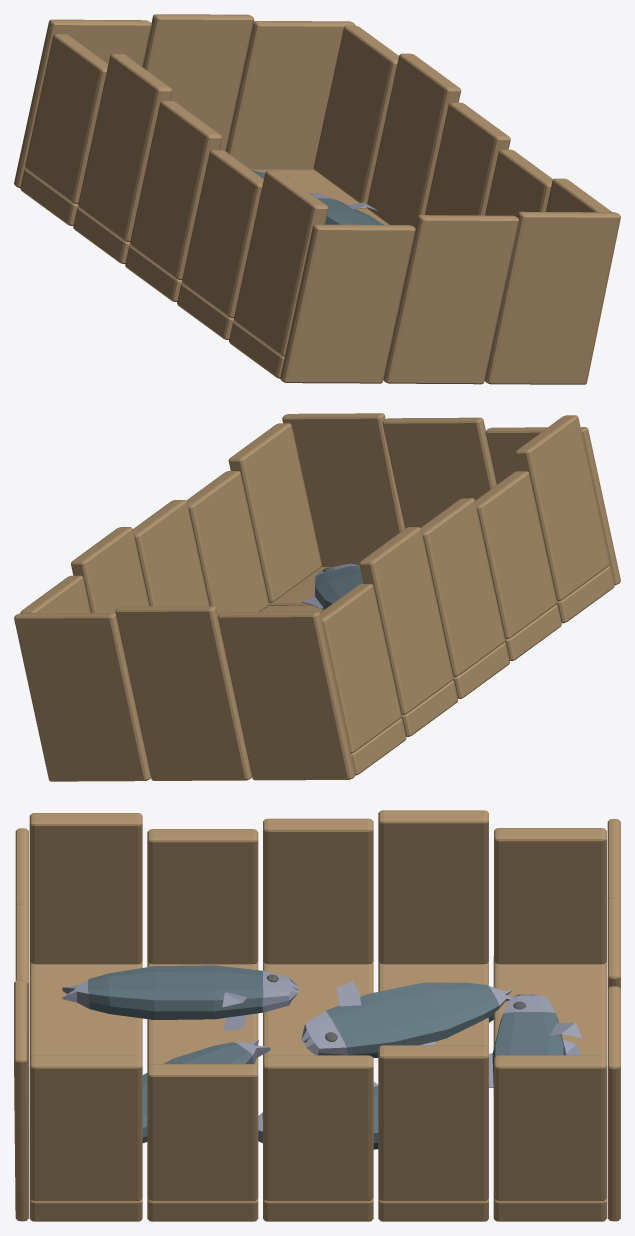
Rendered from BlueFishCase.fbx.
3 renders of one model, top to bottom at view 1: azimuth 30°, elevation 25°; view 2: azimuth 150°, elevation 25°; view 3: azimuth 270°, elevation 25°, orthographic. The views are drawn at different scales.
Parts seen in each view (by area): view 1: Plane.033, Sphere.004; view 2: Plane.033, Sphere.001; view 3: Plane.033, Sphere.003, Sphere.002, Sphere.005, Sphere.001.
Part boxes in pixels (bbox=[...]): Plane.033: bbox=[14, 14, 620, 384]; Sphere.004: bbox=[309, 192, 383, 224]; Plane.033: bbox=[14, 413, 620, 781]; Sphere.001: bbox=[302, 563, 363, 610]; Plane.033: bbox=[14, 810, 620, 1221]; Sphere.003: bbox=[301, 981, 512, 1057]; Sphere.002: bbox=[62, 965, 298, 1030]; Sphere.005: bbox=[489, 994, 581, 1094]; Sphere.001: bbox=[142, 1040, 270, 1142].
Bounding box in the file's own units: 174 × 117 × 241.
